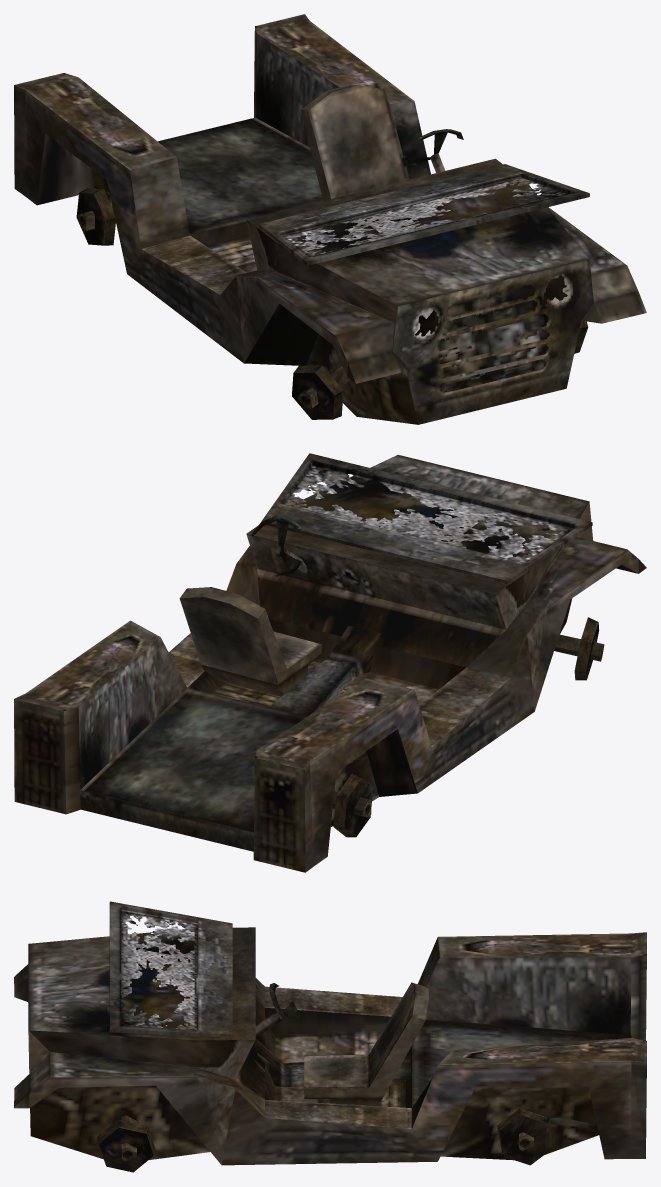
The model's file is etek1p.glb.
3 views of the same model, one above another, from view 1: azimuth 30°, elevation 25°; view 2: azimuth 150°, elevation 25°; view 3: azimuth 270°, elevation 25° (orthographic). The views are drawn at different scales.
Visible parts, largest first — view 1: _etek1p; view 2: _etek1p; view 3: _etek1p.
Part boxes in pixels (left/top/right/bottom): _etek1p: left=14, top=14, right=646, bottom=424; _etek1p: left=14, top=453, right=646, bottom=872; _etek1p: left=14, top=901, right=646, bottom=1172.
Bounding box in the file's own units: 2.04 × 1.23 × 4.07.
1 material, 1 textured.
